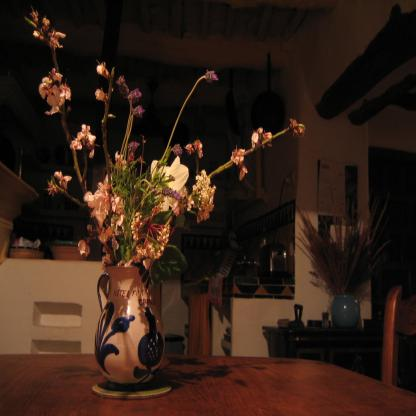vase: (92, 261, 167, 387)
